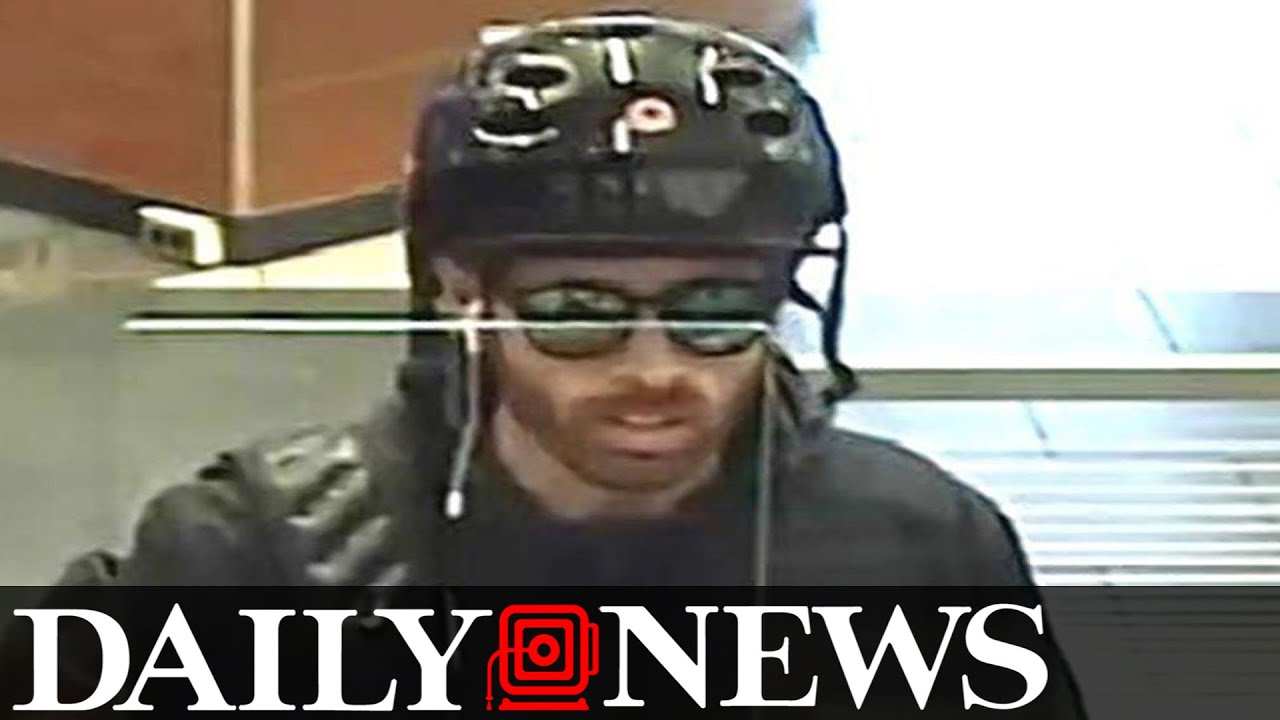helmet: (386, 4, 856, 234)
